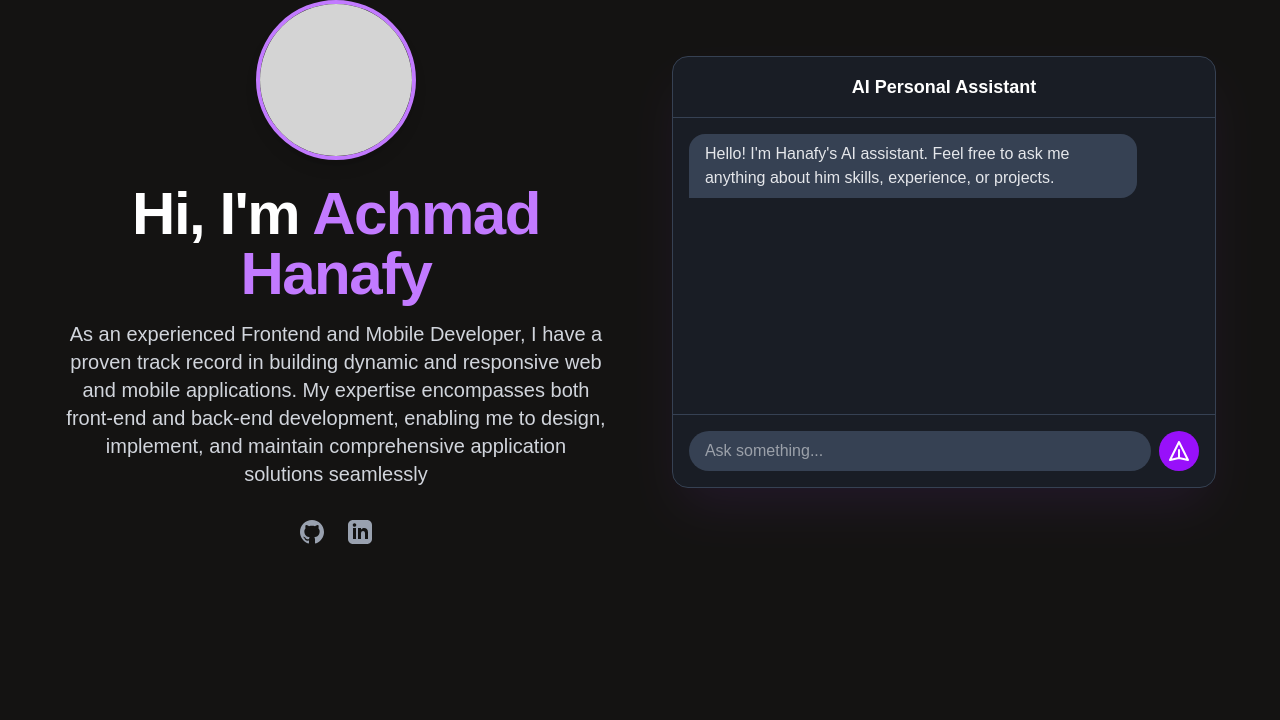
Test case: HomeSection - AI Chatbot › user can type a message and see it appear
// type and submit
In the field with placeholder "Ask something...": (920, 451) [689,431,1151,471], type "Hello AI!"
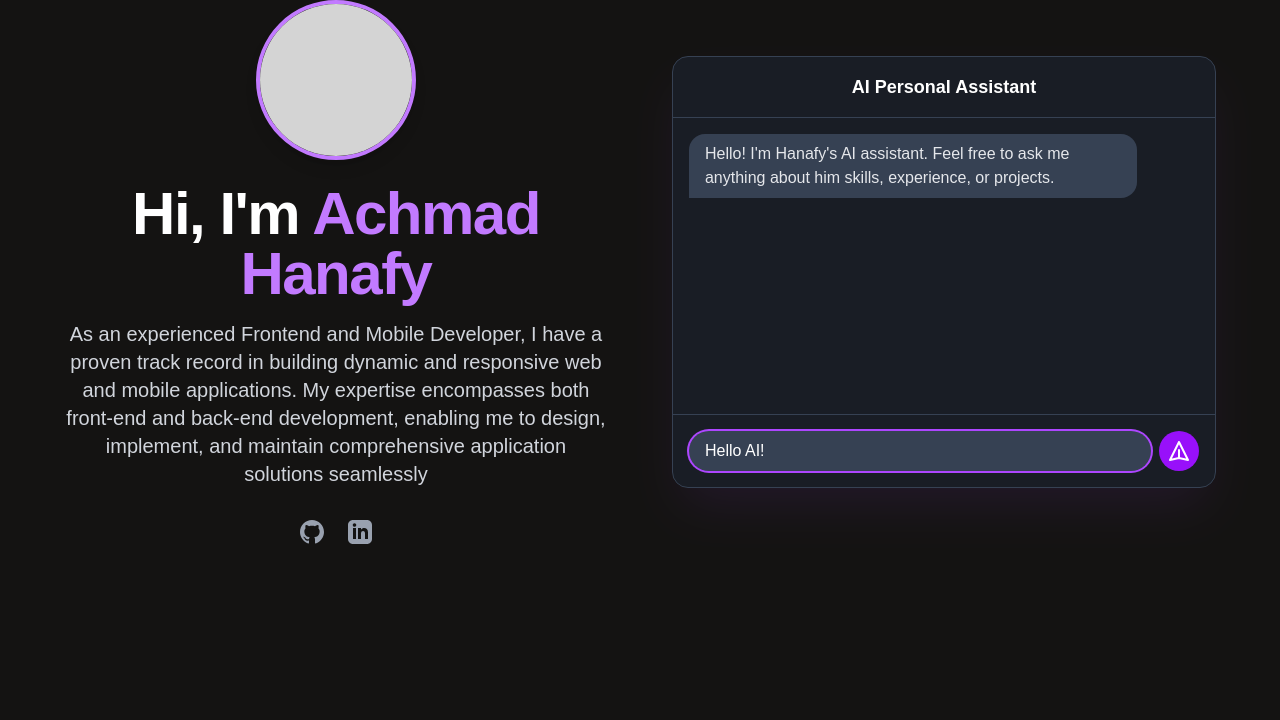
Submit the form from the button with test id "send-chatbot", box [1159,431,1199,471]
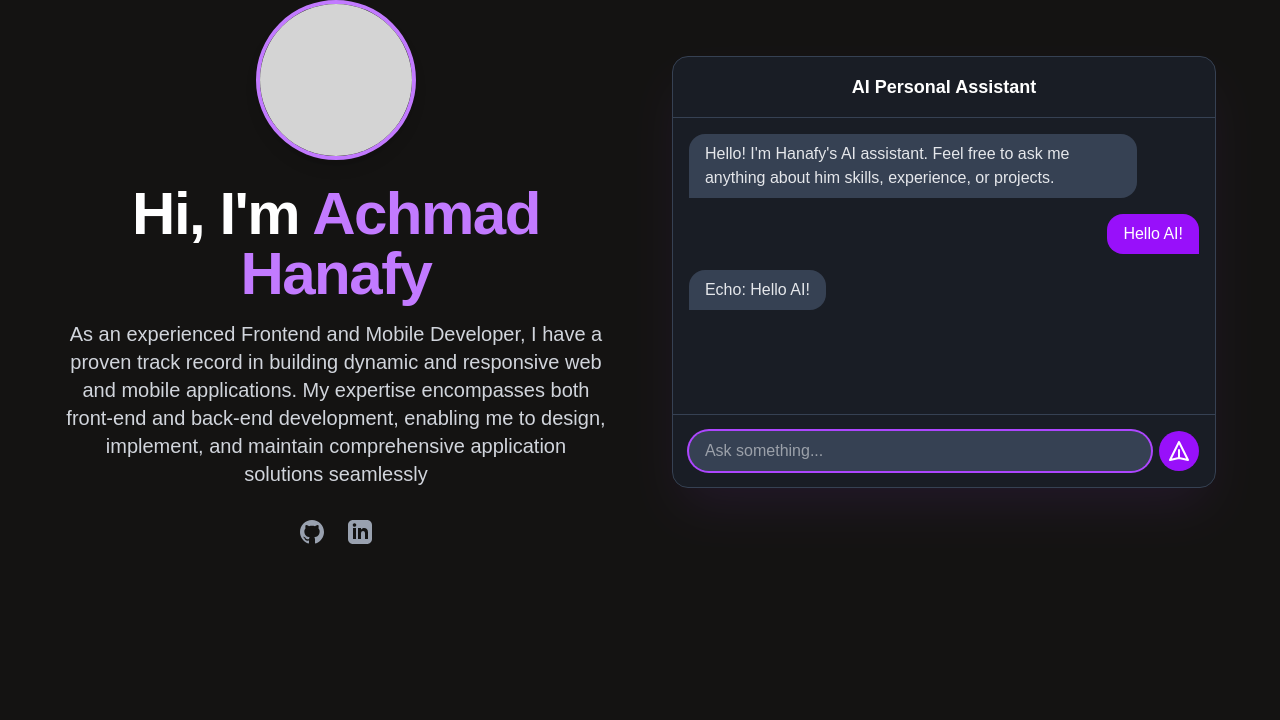
Now the text "Hello AI!" is shown, box [1107,214,1199,254]
